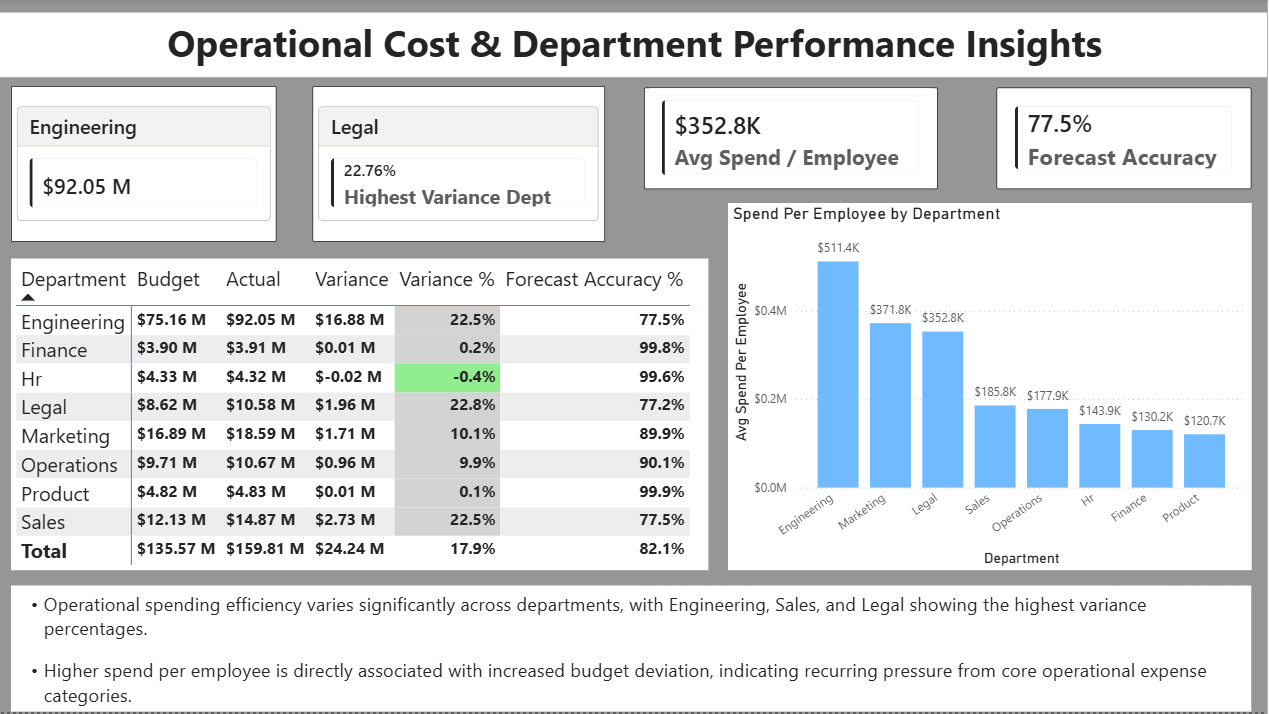

This screenshot's page, from the dashboard's own definition file:
{"tool":"powerbi","page":{"name":"Page 2","canvas":[1280,720],"ordinal":1},"visuals":[{"type":"textbox","box":[0,13.5,1600,65.4],"z":0},{"type":"cardVisual","fields":{"Data":["expense_analysis expense_data.Total Actual M"],"Rows":["expense_analysis expense_data.department"]},"box":[12.1,87.8,268,157.5],"z":1000},{"type":"cardVisual","fields":{"Rows":["expense_analysis expense_data.department"],"Data":["expense_analysis expense_data.Variance%"]},"box":[316.5,87.8,295.3,157.5],"z":2000},{"type":"cardVisual","fields":{"Data":["expense_analysis expense_data.Forecast Accuracy"]},"box":[1006.9,89.3,257.4,103],"z":3000},{"type":"cardVisual","fields":{"Data":["expense_analysis expense_data.Avg Spend Per Employee"]},"box":[651.1,89.3,296.8,103],"z":4000},{"type":"pivotTable","fields":{"Values":["expense_analysis expense_data.Total Budget M","expense_analysis expense_data.Total Actual M","expense_analysis expense_data.Total Variance M","expense_analysis expense_data.Variance %","expense_analysis expense_data.Forecast Accuracy"],"Rows":["expense_analysis expense_data.department"]},"box":[12.1,262,704.1,315],"z":5000},{"type":"clusteredColumnChart","title":"Spend Per Employee by Department","fields":{"Category":["expense_analysis expense_data.department"],"Y":["expense_analysis expense_data.Avg Spend Per Employee"]},"box":[735.9,205.9,528.5,371],"z":6000},{"type":"textbox","box":[12.1,602.7,1252.2,116.6],"z":6001}]}

Visuals, with their boxes in screenshot pixels (x1, y1, x2, y2), scaled from the page's 1280x720 canvas onto the 1269x714 screenshot:
textbox: left=0, top=13, right=1268, bottom=78
cardVisual - expense_analysis expense_data.Total Actual M x expense_analysis expense_data.department: left=12, top=87, right=278, bottom=243
cardVisual - expense_analysis expense_data.department x expense_analysis expense_data.Variance%: left=314, top=87, right=607, bottom=243
cardVisual - expense_analysis expense_data.Forecast Accuracy: left=998, top=89, right=1253, bottom=191
cardVisual - expense_analysis expense_data.Avg Spend Per Employee: left=646, top=89, right=940, bottom=191
pivotTable - expense_analysis expense_data.Total Budget M x expense_analysis expense_data.Total Actual M: left=12, top=260, right=710, bottom=572
"Spend Per Employee by Department" clusteredColumnChart: left=730, top=204, right=1254, bottom=572
textbox: left=12, top=598, right=1253, bottom=713
